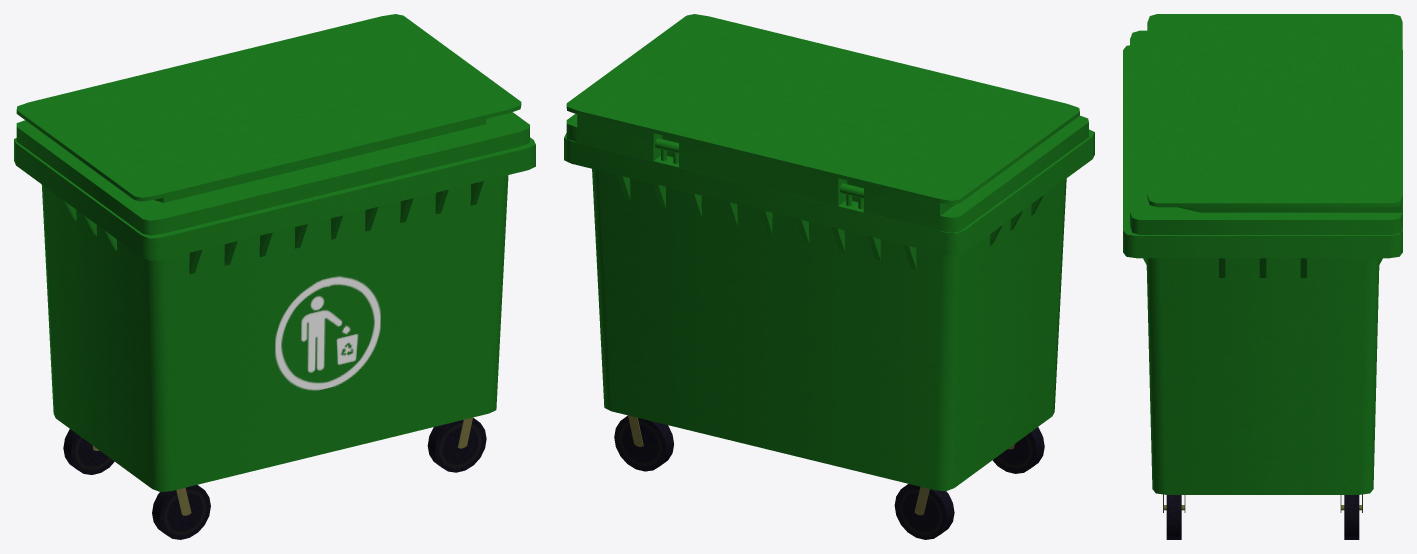
File: bin.glb
The picture shows the model from 3 angles, left to right: view 1: azimuth 30°, elevation 25°; view 2: azimuth 150°, elevation 25°; view 3: azimuth 270°, elevation 25°; orthographic projection.
Visible parts, largest first — view 1: aws_robomaker_warehouse_TrashCanC_01_visual-lib; view 2: aws_robomaker_warehouse_TrashCanC_01_visual-lib; view 3: aws_robomaker_warehouse_TrashCanC_01_visual-lib.
Part boxes in pixels (x1,y1,x2,y2): aws_robomaker_warehouse_TrashCanC_01_visual-lib: [14, 14, 535, 539]; aws_robomaker_warehouse_TrashCanC_01_visual-lib: [564, 14, 1094, 539]; aws_robomaker_warehouse_TrashCanC_01_visual-lib: [1123, 14, 1402, 539].
Bounding box in the file's own units: 1.45 × 1.27 × 0.8916.
Materials: 1 (1 with a texture image).
